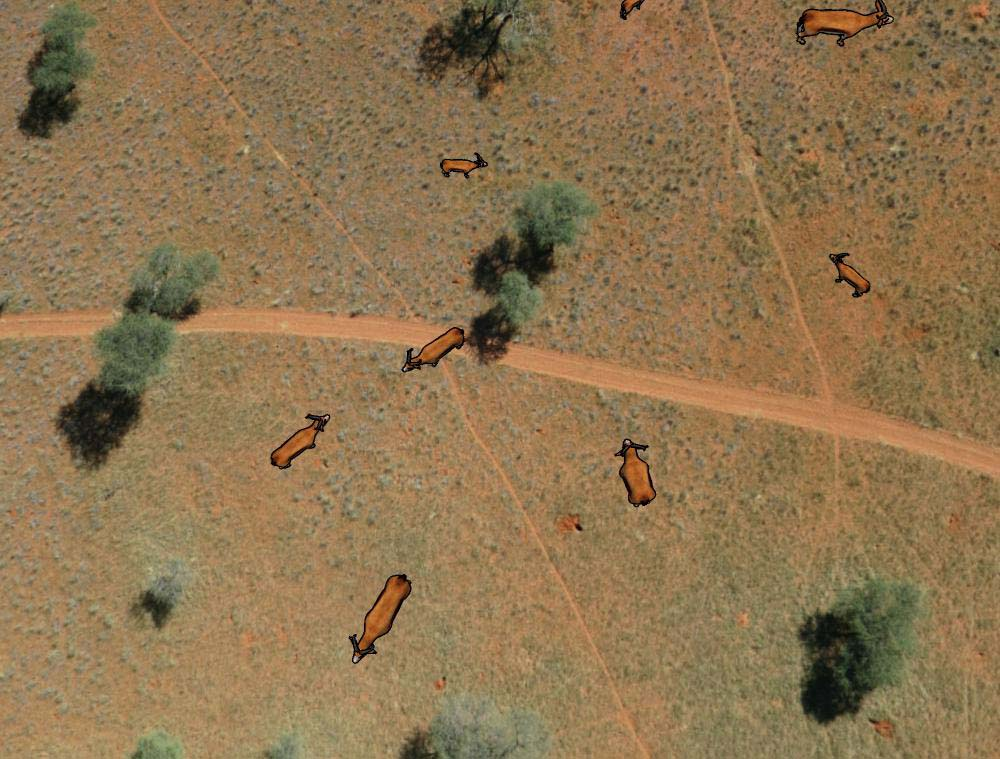springbok: (347, 570, 414, 664), (790, 1, 892, 56), (608, 434, 656, 514), (264, 412, 329, 471), (399, 325, 466, 373), (821, 251, 874, 301), (439, 147, 486, 183)
